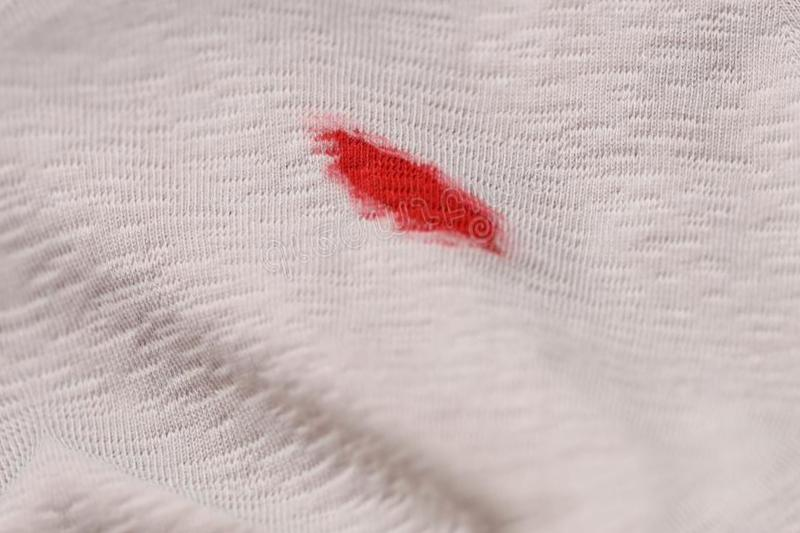stain: (302, 112, 520, 262)
